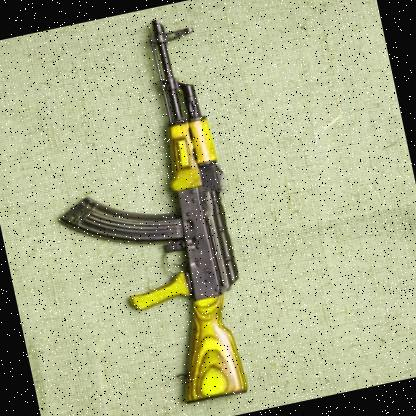rifle: (41, 4, 297, 416)
